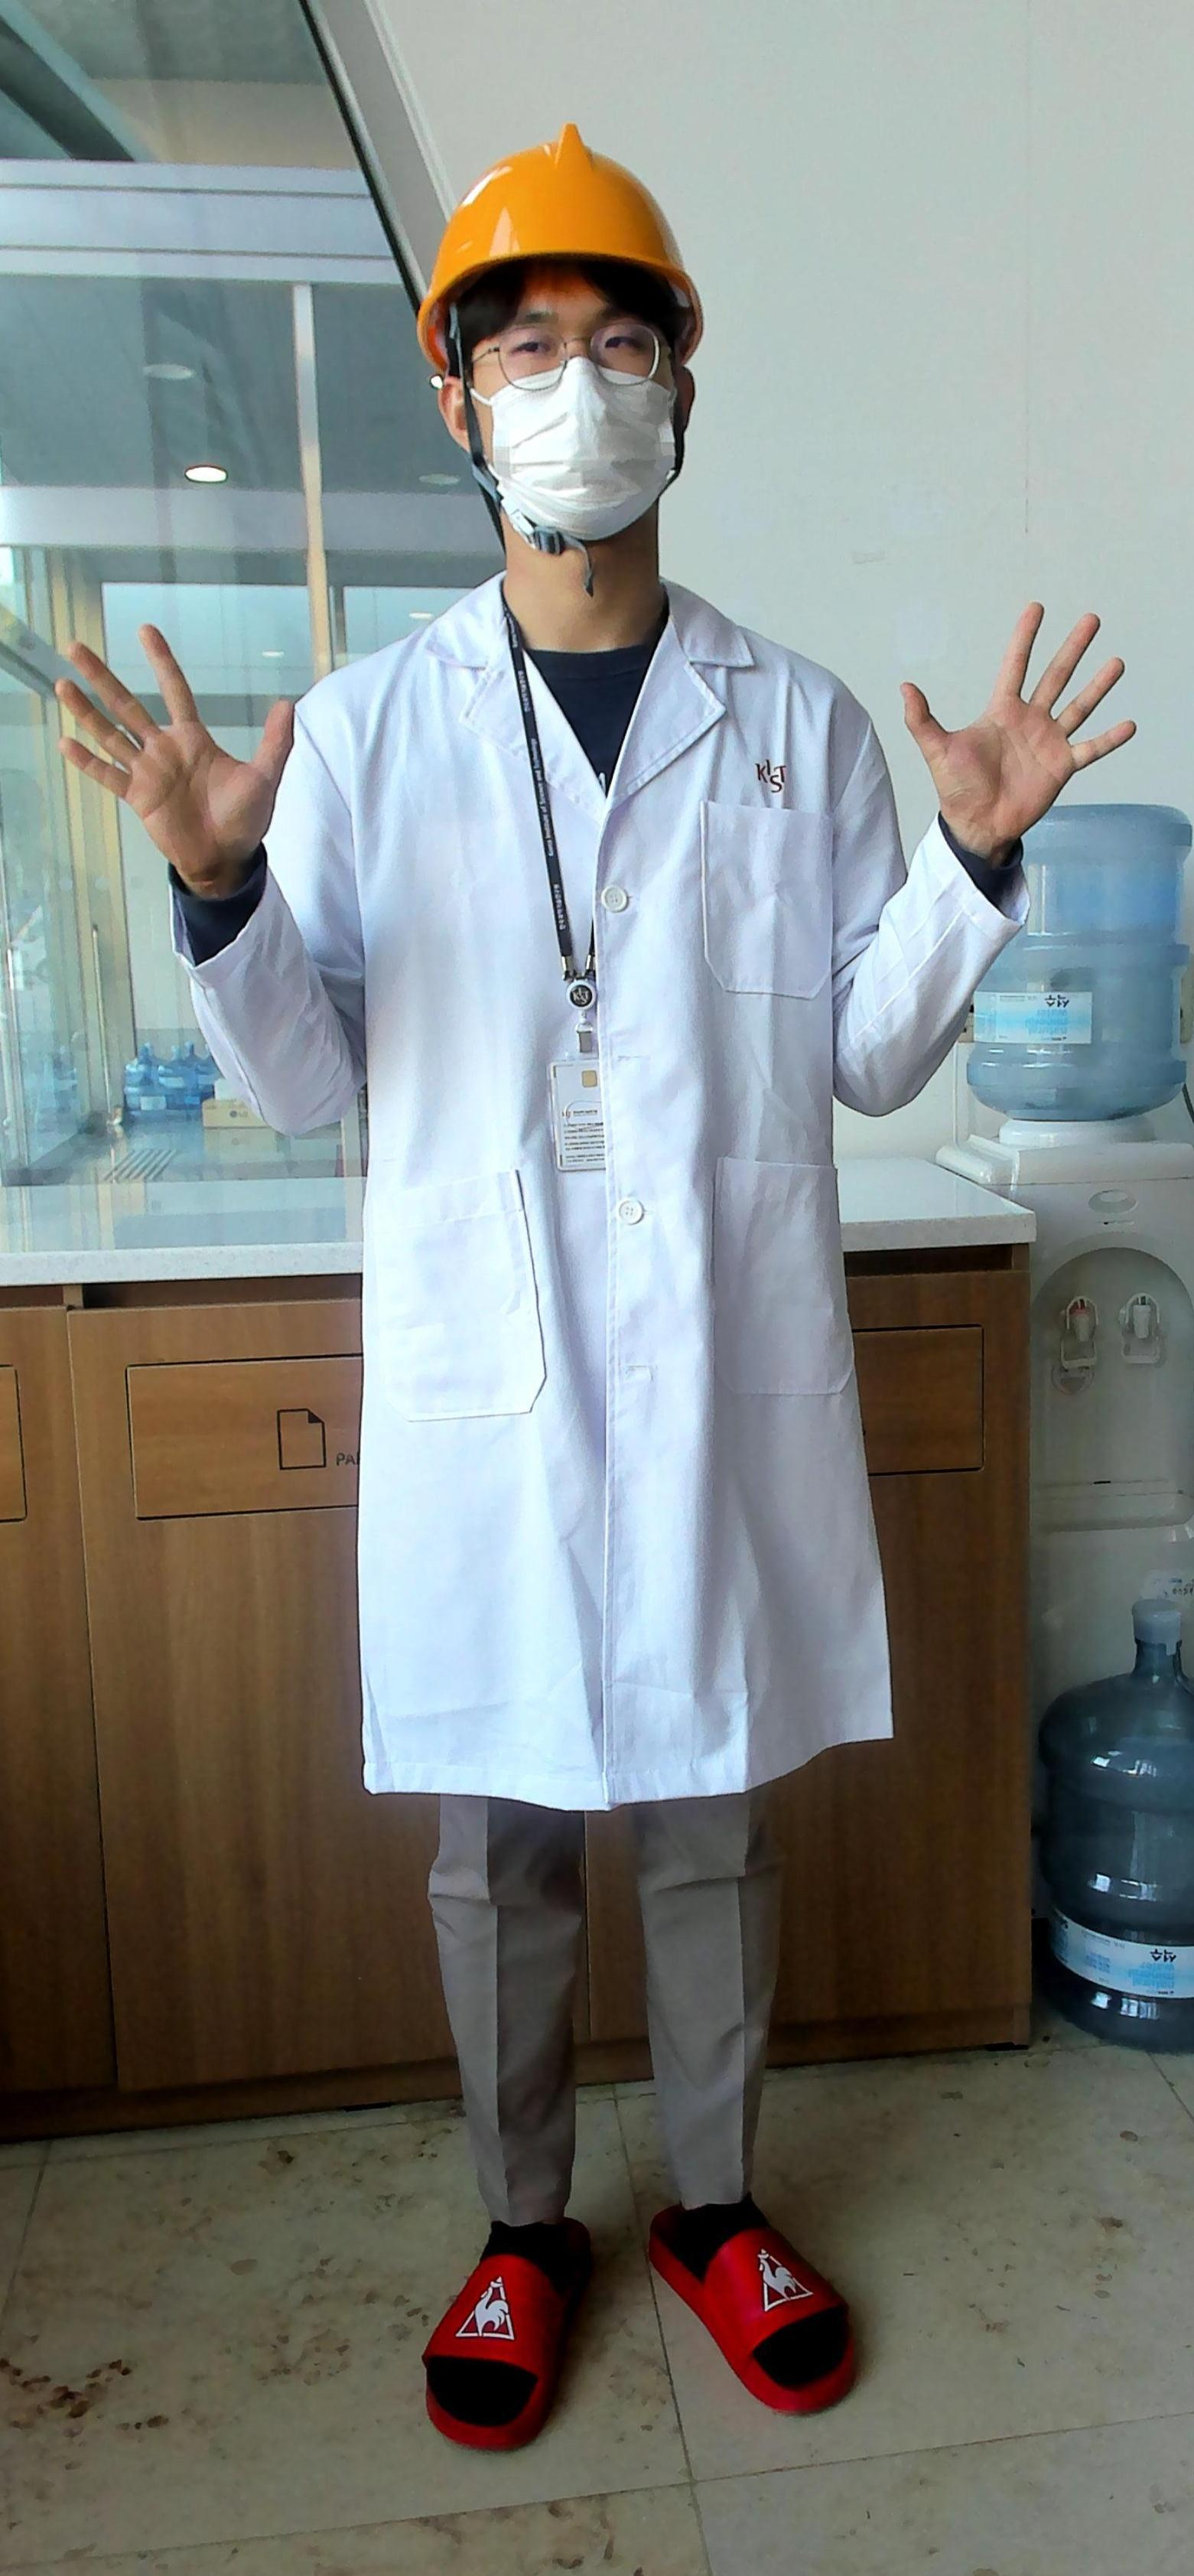lab_coat: (315, 644, 905, 1814)
